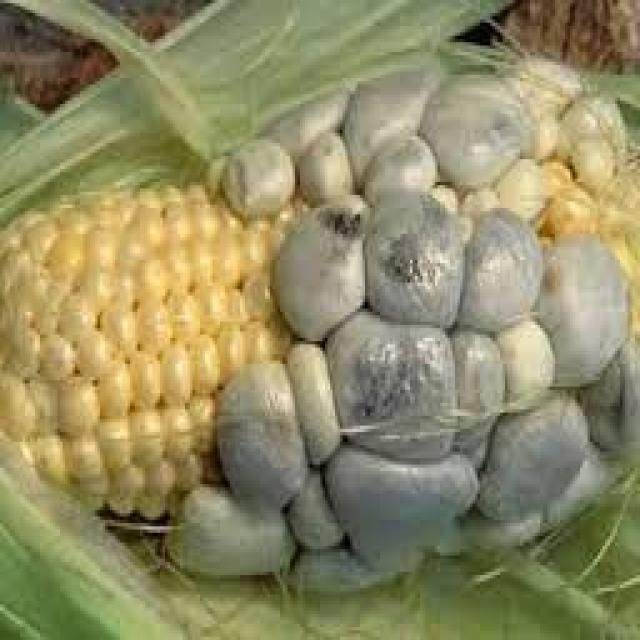Leaf_Scald: (14, 44, 640, 640)
